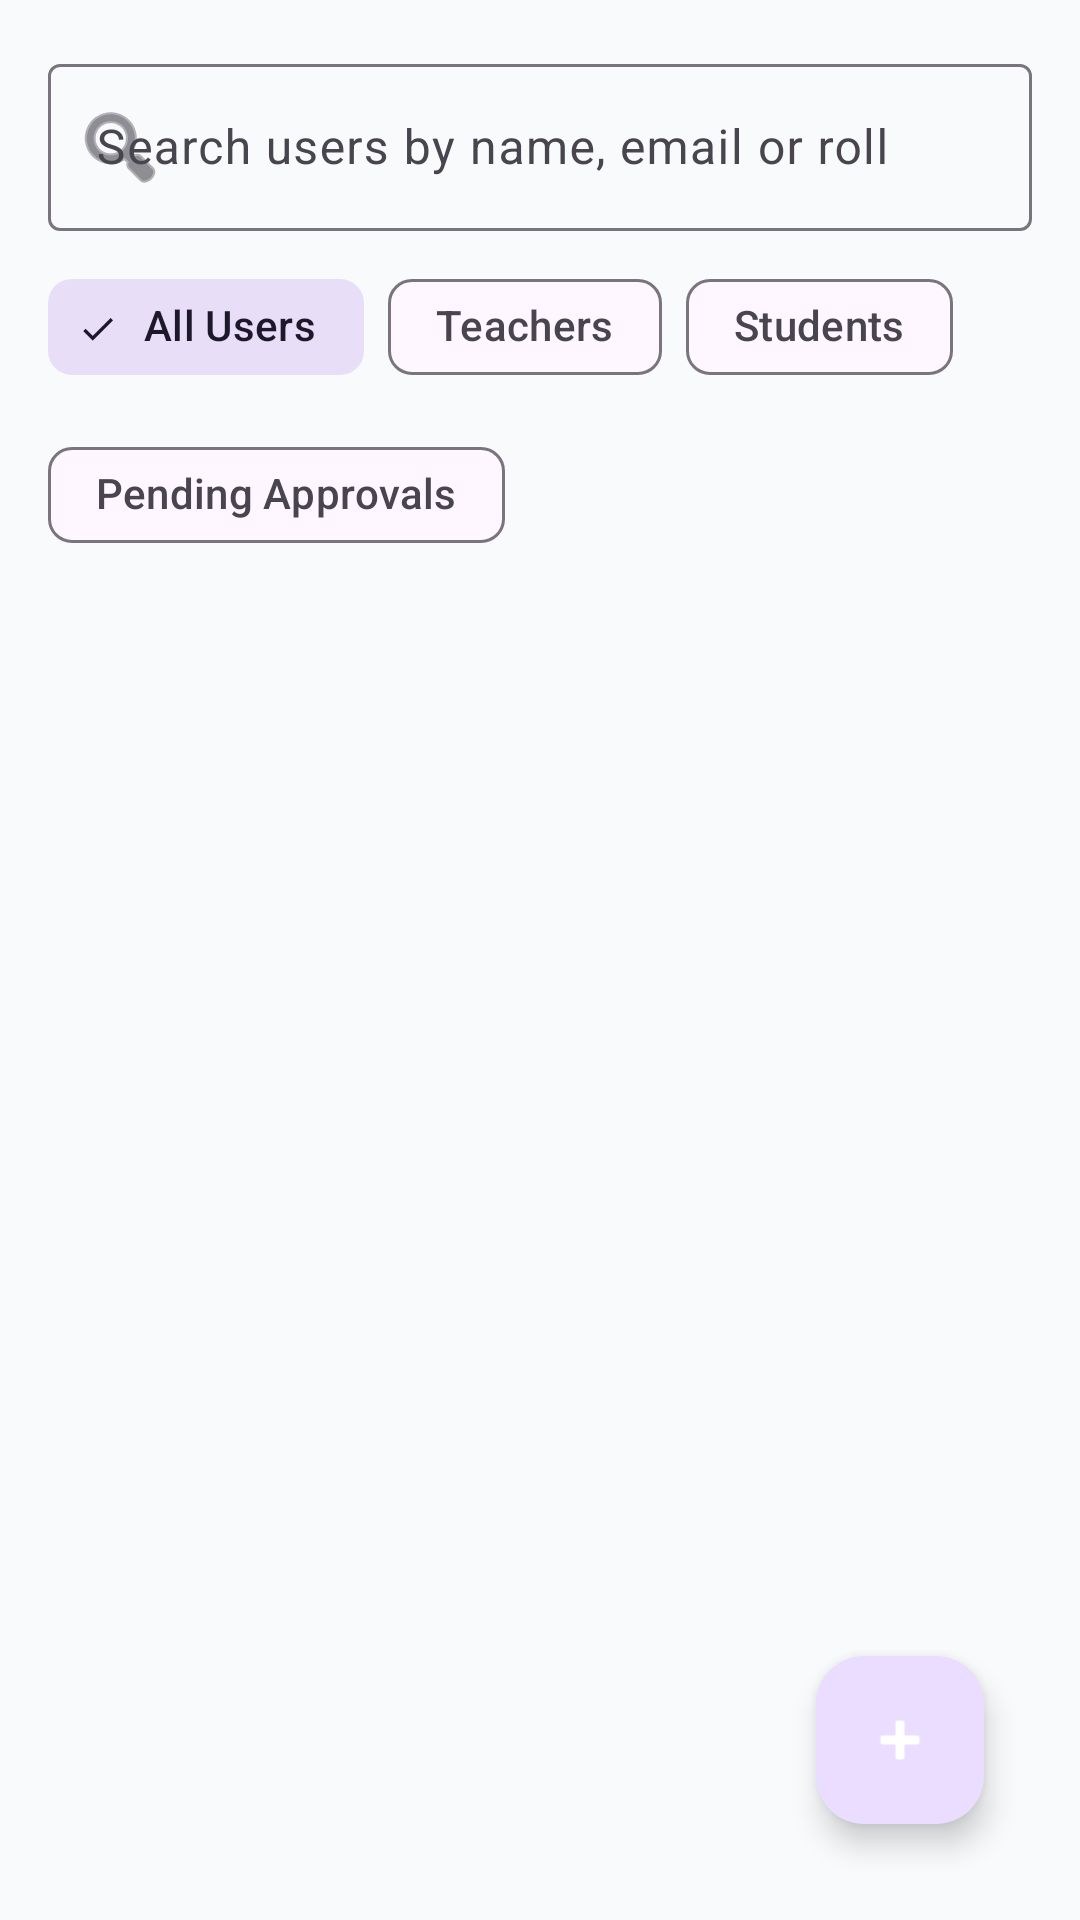

Named icons in this screenshot (1080w x 1920h) and their bounding boxes, (x1, y1, x2, y2):
Add User: (816, 1656, 984, 1824)
